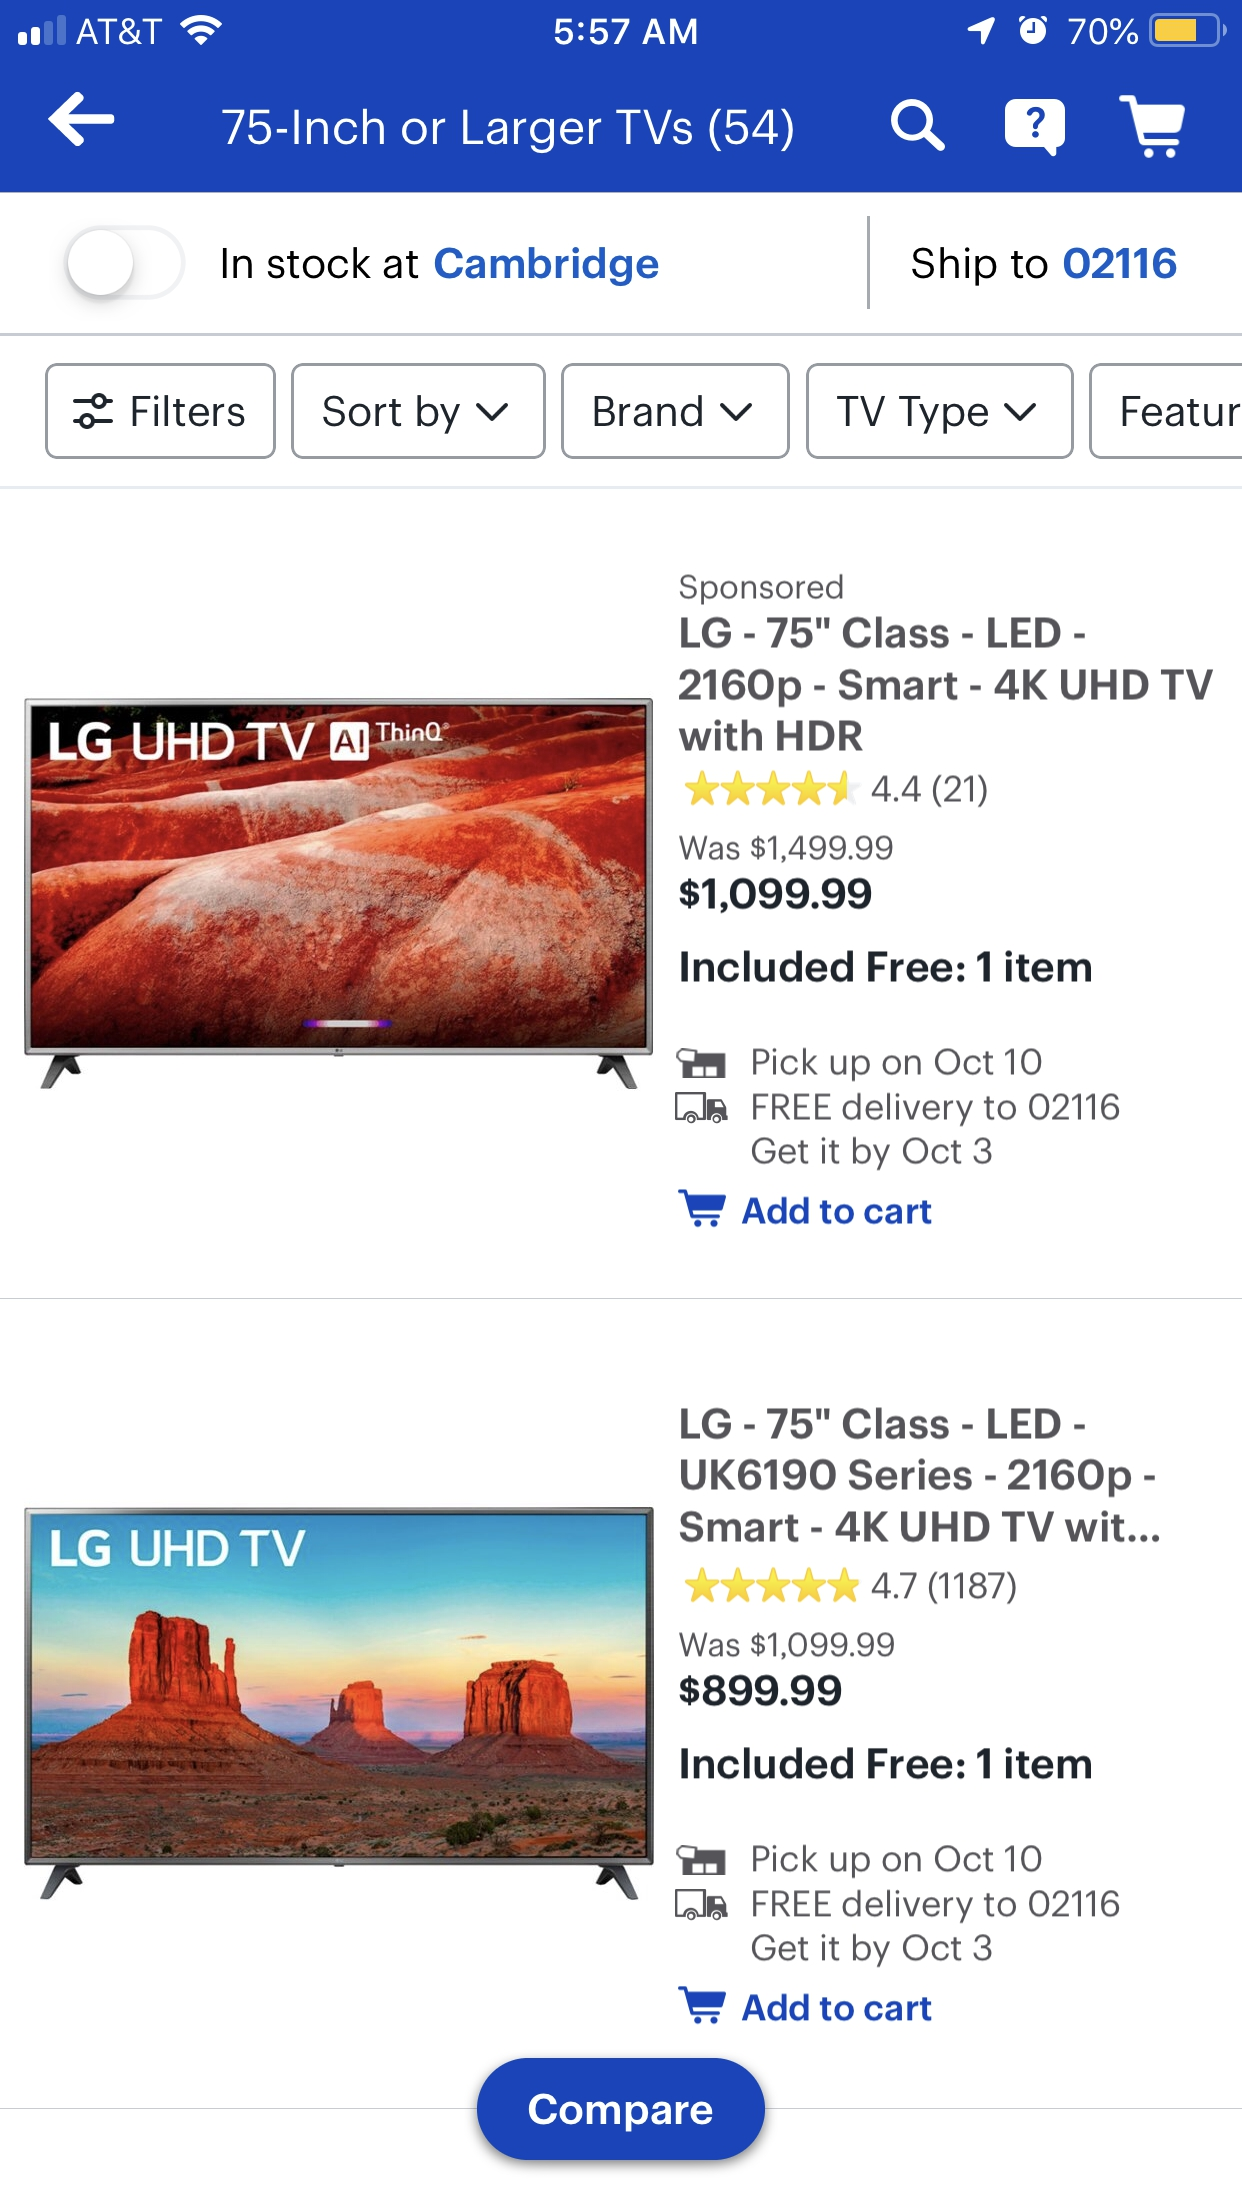Icon: (685, 770, 861, 807), (685, 1567, 860, 1603), (1118, 96, 1186, 161), (49, 93, 117, 149), (1004, 99, 1066, 158), (890, 99, 946, 153), (678, 1187, 726, 1228), (678, 1985, 726, 2025), (1004, 402, 1037, 422), (476, 402, 510, 422), (720, 403, 754, 422)
Image: (24, 1506, 655, 1900), (24, 698, 654, 1090), (675, 1888, 729, 1921), (675, 1092, 729, 1125), (676, 1046, 726, 1080), (676, 1844, 726, 1876)
Switch: (64, 224, 187, 300)
Text: (679, 616, 1215, 754), (679, 1407, 1160, 1542), (752, 1046, 1121, 1172), (752, 1843, 1121, 1968), (221, 108, 795, 155), (223, 247, 660, 288), (681, 949, 1092, 984), (681, 1745, 1092, 1780), (911, 247, 1177, 288), (679, 877, 872, 914), (679, 834, 895, 864), (679, 1632, 895, 1661), (742, 1197, 933, 1225), (742, 1993, 933, 2021), (679, 1674, 842, 1708), (679, 575, 845, 607), (872, 1570, 1018, 1604), (870, 773, 989, 808)
TextButton: (476, 2056, 766, 2161), (805, 362, 1075, 459), (291, 362, 547, 459), (45, 362, 278, 459), (561, 362, 792, 459), (1089, 362, 1242, 459)
UpperTaskBar: (2, 2, 1242, 49)
